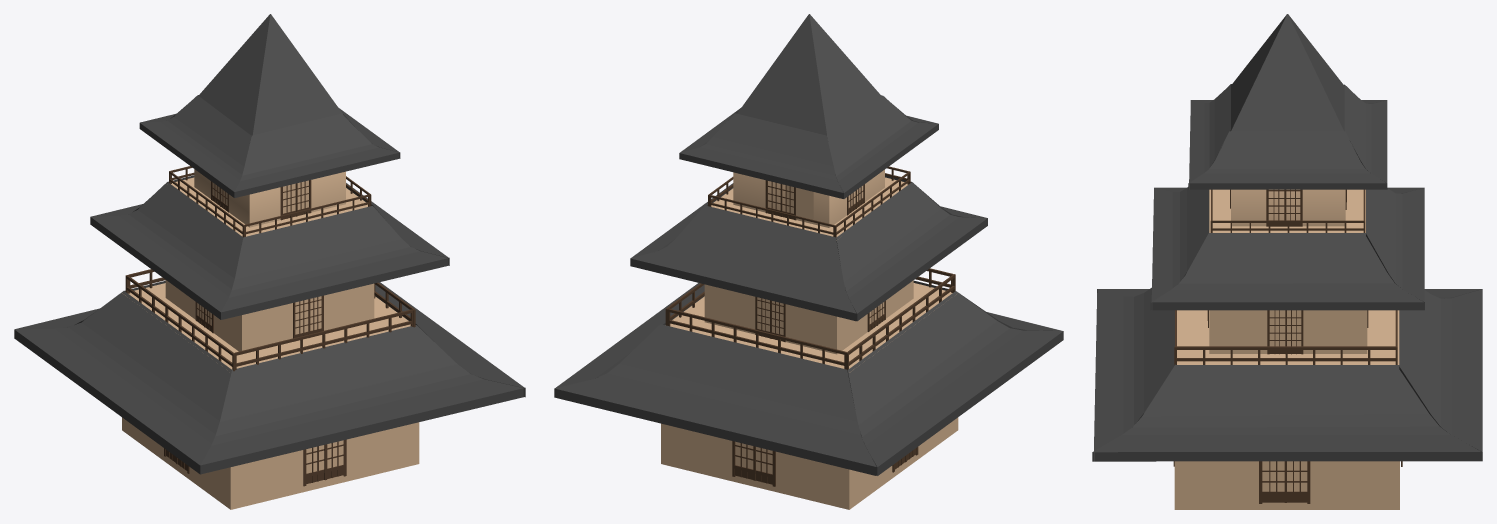
Rendered from pagoda.glb.
The picture shows the model from 3 angles, left to right: view 1: azimuth 30°, elevation 25°; view 2: azimuth 150°, elevation 25°; view 3: azimuth 270°, elevation 25°; orthographic projection. The views are drawn at different scales.
Parts seen in each view (by area): view 1: Box20505, Box20736, Box20607, Box20503, Box20504, Plane025, Box20708, Box20718, Plane016; view 2: Box20505, Box20736, Box20607, Box20503, Box20504, Plane024, Box20673, Box20678, Plane022, Plane018; view 3: Box20505, Box20736, Box20607, Box20503, Box20504, Plane014, Plane020, Box20512, Box20522, Box20610, Box20609.
Part boxes in pixels (left/top/right/bottom): Box20505: left=14, top=95, right=525, bottom=474; Box20736: left=122, top=283, right=419, bottom=509; Box20607: left=198, top=14, right=342, bottom=135; Box20503: left=165, top=177, right=374, bottom=351; Box20504: left=194, top=169, right=345, bottom=227; Plane025: left=295, top=296, right=321, bottom=334; Box20708: left=235, top=309, right=412, bottom=355; Box20718: left=235, top=321, right=412, bottom=366; Plane016: left=283, top=180, right=308, bottom=213; Box20505: left=554, top=95, right=1063, bottom=475; Box20736: left=661, top=283, right=958, bottom=509; Box20607: left=737, top=14, right=881, bottom=135; Box20503: left=704, top=177, right=913, bottom=354; Box20504: left=733, top=169, right=884, bottom=227; Plane024: left=735, top=441, right=772, bottom=474; Box20673: left=668, top=308, right=845, bottom=354; Box20678: left=669, top=320, right=845, bottom=365; Plane022: left=786, top=185, right=813, bottom=219; Plane018: left=757, top=297, right=783, bottom=334; Box20505: left=1092, top=84, right=1482, bottom=461; Box20736: left=1174, top=310, right=1399, bottom=509; Box20607: left=1230, top=14, right=1344, bottom=131; Box20503: left=1209, top=189, right=1367, bottom=353; Box20504: left=1231, top=189, right=1345, bottom=226; Plane014: left=1262, top=461, right=1307, bottom=491; Plane020: left=1269, top=310, right=1301, bottom=346; Box20512: left=1175, top=346, right=1395, bottom=349; Box20522: left=1175, top=358, right=1395, bottom=361; Box20610: left=1212, top=220, right=1363, bottom=222; Box20609: left=1212, top=228, right=1363, bottom=230.
Bounding box in the file's own units: 8542 × 10906 × 8605.
